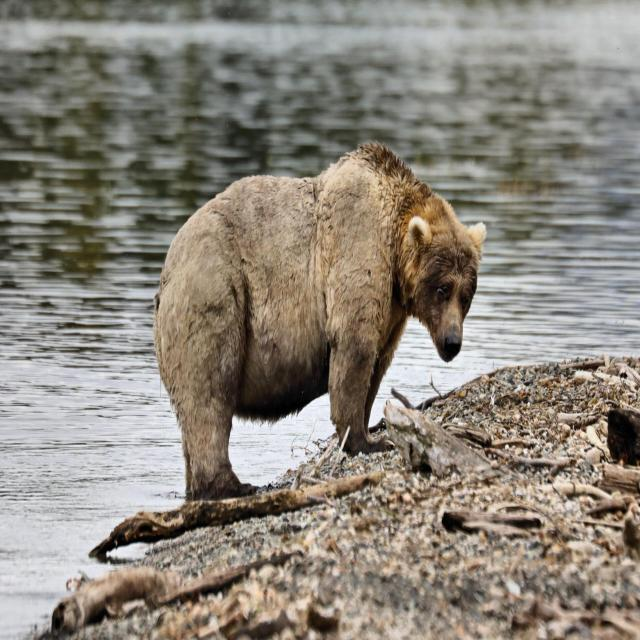Bear: (152, 142, 487, 508)
